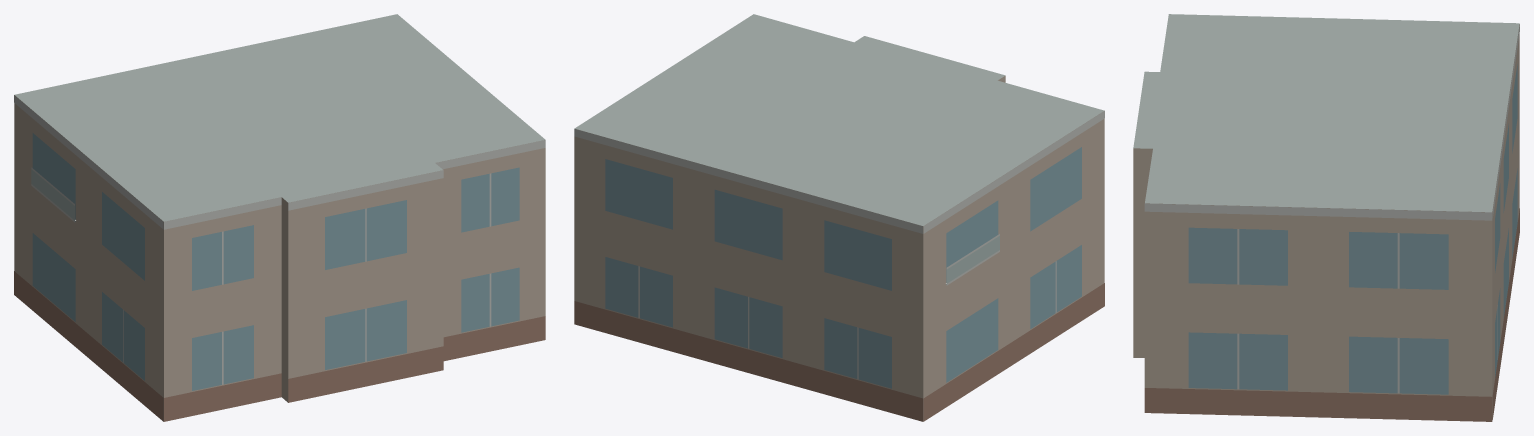
The model's file is survey-upis-32811504.glb.
3 views of the same model, side by side, from view 1: azimuth 30°, elevation 25°; view 2: azimuth 150°, elevation 25°; view 3: azimuth 270°, elevation 25° (orthographic). The views are drawn at different scales.
Visible parts, largest first — view 1: survey-upis-32811504.tmp; view 2: survey-upis-32811504.tmp; view 3: survey-upis-32811504.tmp.
Part boxes in pixels (x1,y1,x2,y2): survey-upis-32811504.tmp: (14, 14, 545, 421); survey-upis-32811504.tmp: (574, 14, 1104, 421); survey-upis-32811504.tmp: (1133, 14, 1519, 421).
Size of the model in its own units: 12.39 by 6.1 by 10.21.
